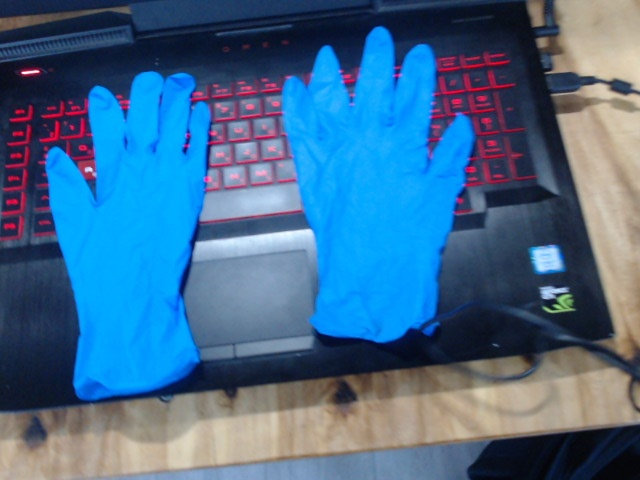medical_glove: (282, 26, 473, 341), (45, 71, 209, 400)
